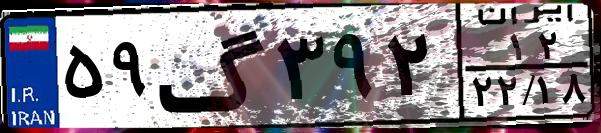1: (508, 27, 537, 80), (535, 70, 560, 125)
2: (385, 28, 445, 110), (537, 27, 568, 80), (470, 70, 495, 125), (495, 70, 520, 125)
3: (270, 28, 330, 110)
5: (57, 26, 110, 100)
8: (560, 70, 590, 125)
9: (330, 28, 385, 110), (110, 28, 156, 98)
گ: (156, 12, 270, 120)
